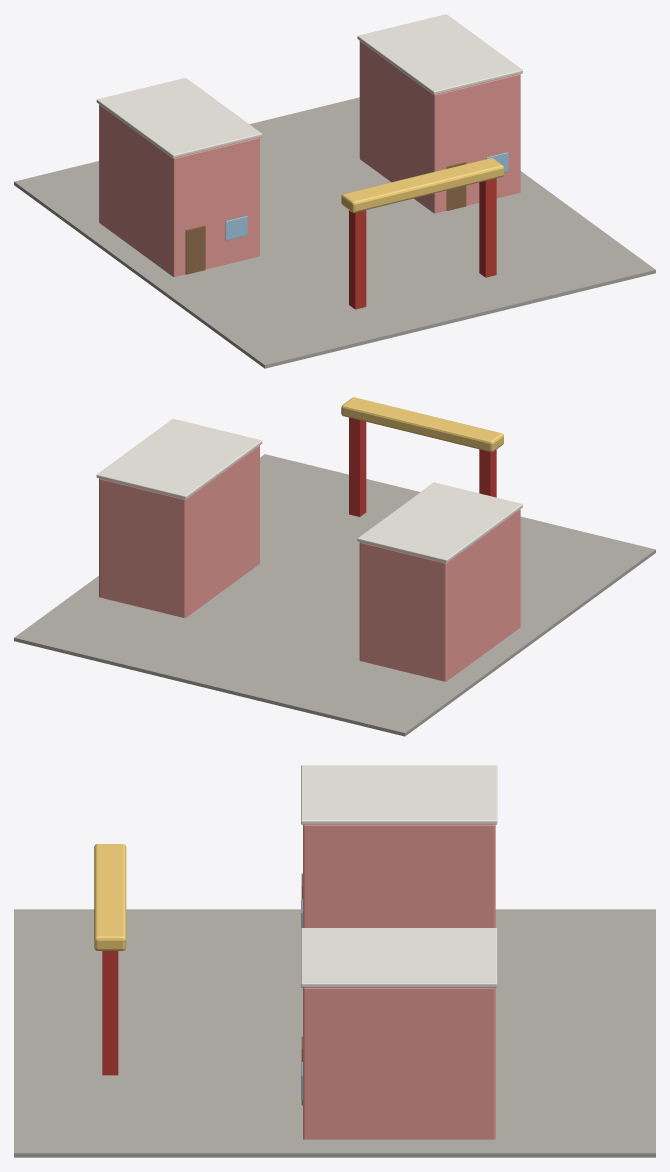
File: Chinatown_blockout.glb
The picture shows the model from 3 angles, top to bottom: view 1: azimuth 30°, elevation 25°; view 2: azimuth 150°, elevation 25°; view 3: azimuth 270°, elevation 25°; orthographic projection. The views are drawn at different scales.
Parts seen in each view (by area): view 1: ENV22_Chinatown_Road_L0, ENV22_Chinatown_Shop0Wall_L0, ENV22_Chinatown_Shop1Wall_L0, ENV22_Chinatown_Shop0Roof_L0, ENV22_Chinatown_Shop1Roof_L0, ENV22_Chinatown_GateTop_L0, ENV22_Chinatown_GatePost0_L0, ENV22_Chinatown_GatePost1_L0, ENV22_Chinatown_Shop0Door_L0; view 2: ENV22_Chinatown_Road_L0, ENV22_Chinatown_Shop0Wall_L0, ENV22_Chinatown_Shop1Wall_L0, ENV22_Chinatown_Shop1Roof_L0, ENV22_Chinatown_Shop0Roof_L0, ENV22_Chinatown_GateTop_L0, ENV22_Chinatown_GatePost1_L0, ENV22_Chinatown_GatePost0_L0; view 3: ENV22_Chinatown_Road_L0, ENV22_Chinatown_Shop1Wall_L0, ENV22_Chinatown_Shop0Wall_L0, ENV22_Chinatown_Shop1Roof_L0, ENV22_Chinatown_Shop0Roof_L0, ENV22_Chinatown_GateTop_L0, ENV22_Chinatown_GatePost1_L0.
Boxes of the visible parts, box(x1,y1,x2,y2) form: ENV22_Chinatown_Road_L0: box(14, 97, 655, 368); ENV22_Chinatown_Shop0Wall_L0: box(99, 104, 259, 276); ENV22_Chinatown_Shop1Wall_L0: box(359, 41, 520, 213); ENV22_Chinatown_Shop0Roof_L0: box(96, 78, 262, 158); ENV22_Chinatown_Shop1Roof_L0: box(357, 14, 522, 94); ENV22_Chinatown_GateTop_L0: box(341, 158, 503, 212); ENV22_Chinatown_GatePost0_L0: box(349, 210, 366, 309); ENV22_Chinatown_GatePost1_L0: box(479, 178, 496, 277); ENV22_Chinatown_Shop0Door_L0: box(185, 225, 205, 274); ENV22_Chinatown_Road_L0: box(14, 454, 655, 736); ENV22_Chinatown_Shop0Wall_L0: box(359, 509, 520, 681); ENV22_Chinatown_Shop1Wall_L0: box(99, 445, 259, 617); ENV22_Chinatown_Shop1Roof_L0: box(96, 419, 262, 499); ENV22_Chinatown_Shop0Roof_L0: box(357, 482, 522, 562); ENV22_Chinatown_GateTop_L0: box(341, 397, 503, 451); ENV22_Chinatown_GatePost1_L0: box(349, 417, 366, 516); ENV22_Chinatown_GatePost0_L0: box(479, 449, 496, 497); ENV22_Chinatown_Road_L0: box(14, 909, 655, 1157); ENV22_Chinatown_Shop1Wall_L0: box(303, 987, 495, 1139); ENV22_Chinatown_Shop0Wall_L0: box(303, 824, 495, 927); ENV22_Chinatown_Shop1Roof_L0: box(301, 928, 497, 987); ENV22_Chinatown_Shop0Roof_L0: box(301, 765, 497, 824); ENV22_Chinatown_GateTop_L0: box(94, 844, 126, 950); ENV22_Chinatown_GatePost1_L0: box(102, 951, 118, 1075).
Size of the model in its own units: 18 by 5.55 by 20.
